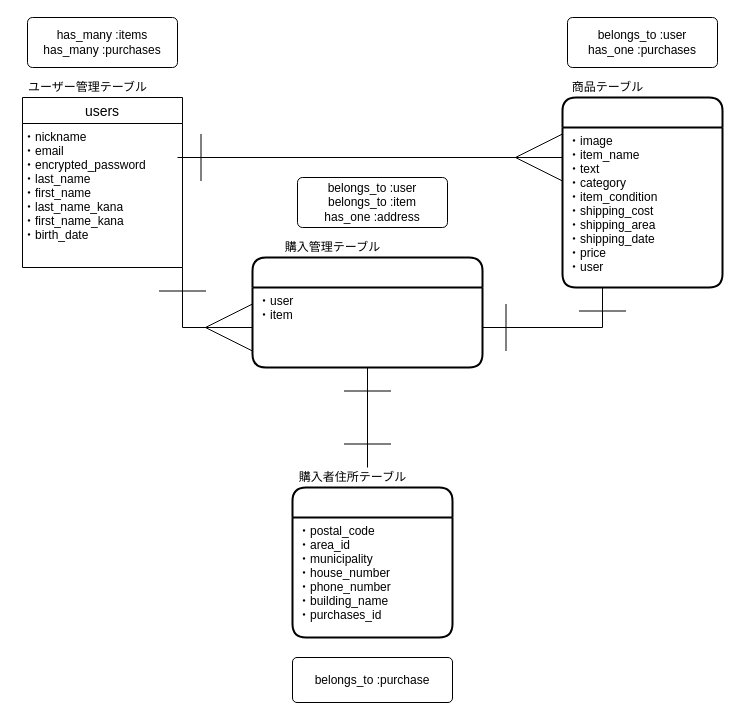
Some shapes in this 740 by 720 pixel diagram are drawn without their labels. Here are the shapes that lost their labels. From the top down, the box of each, then its label:
(561, 96, 723, 288): items
(251, 256, 483, 368): purchases
(291, 486, 453, 638): addresses
